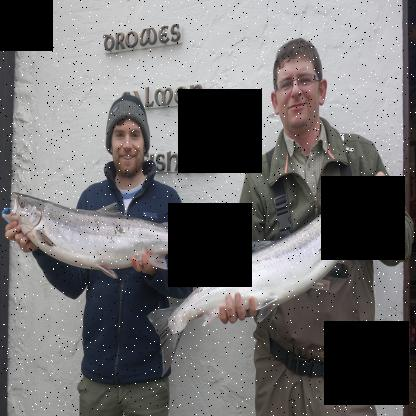fish: (146, 183, 366, 378), (2, 192, 218, 284)
